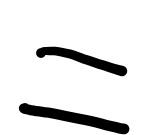eqv: (15, 45, 135, 135)
